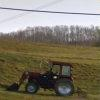Tractor: (16, 53, 82, 99)
